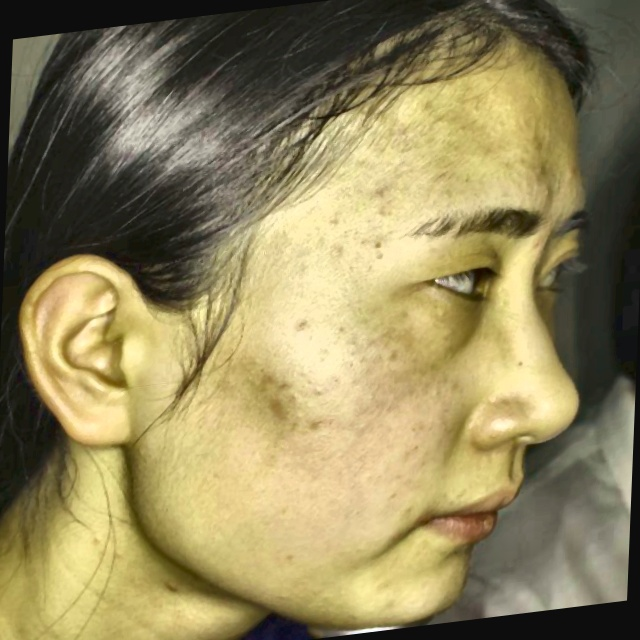comedone: (552, 159, 589, 183)
